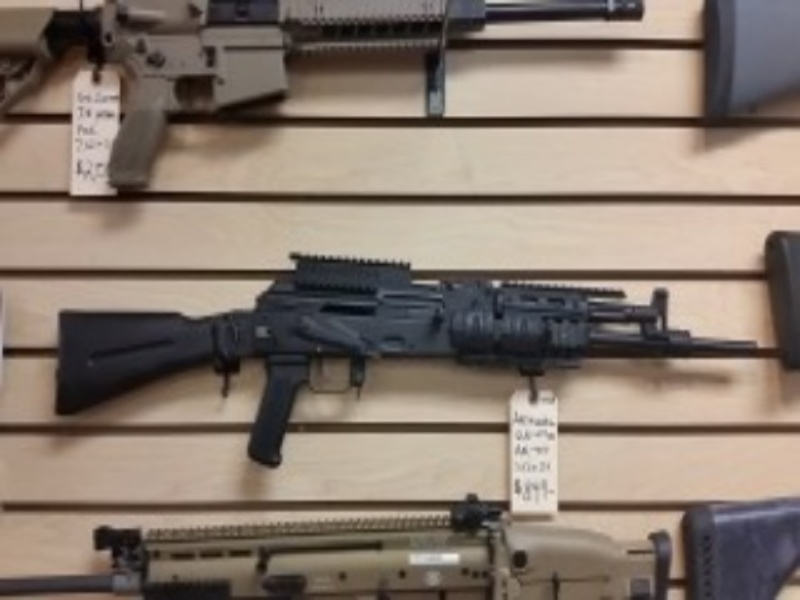weapon: (54, 251, 796, 470), (1, 1, 645, 191), (93, 492, 672, 600)
